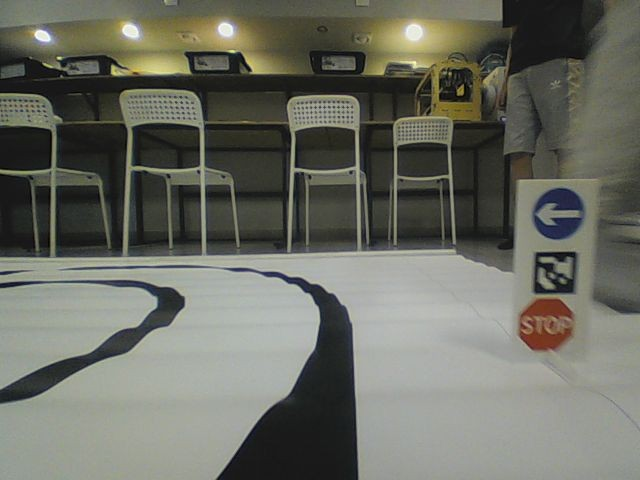Stop: (514, 297, 576, 352)
